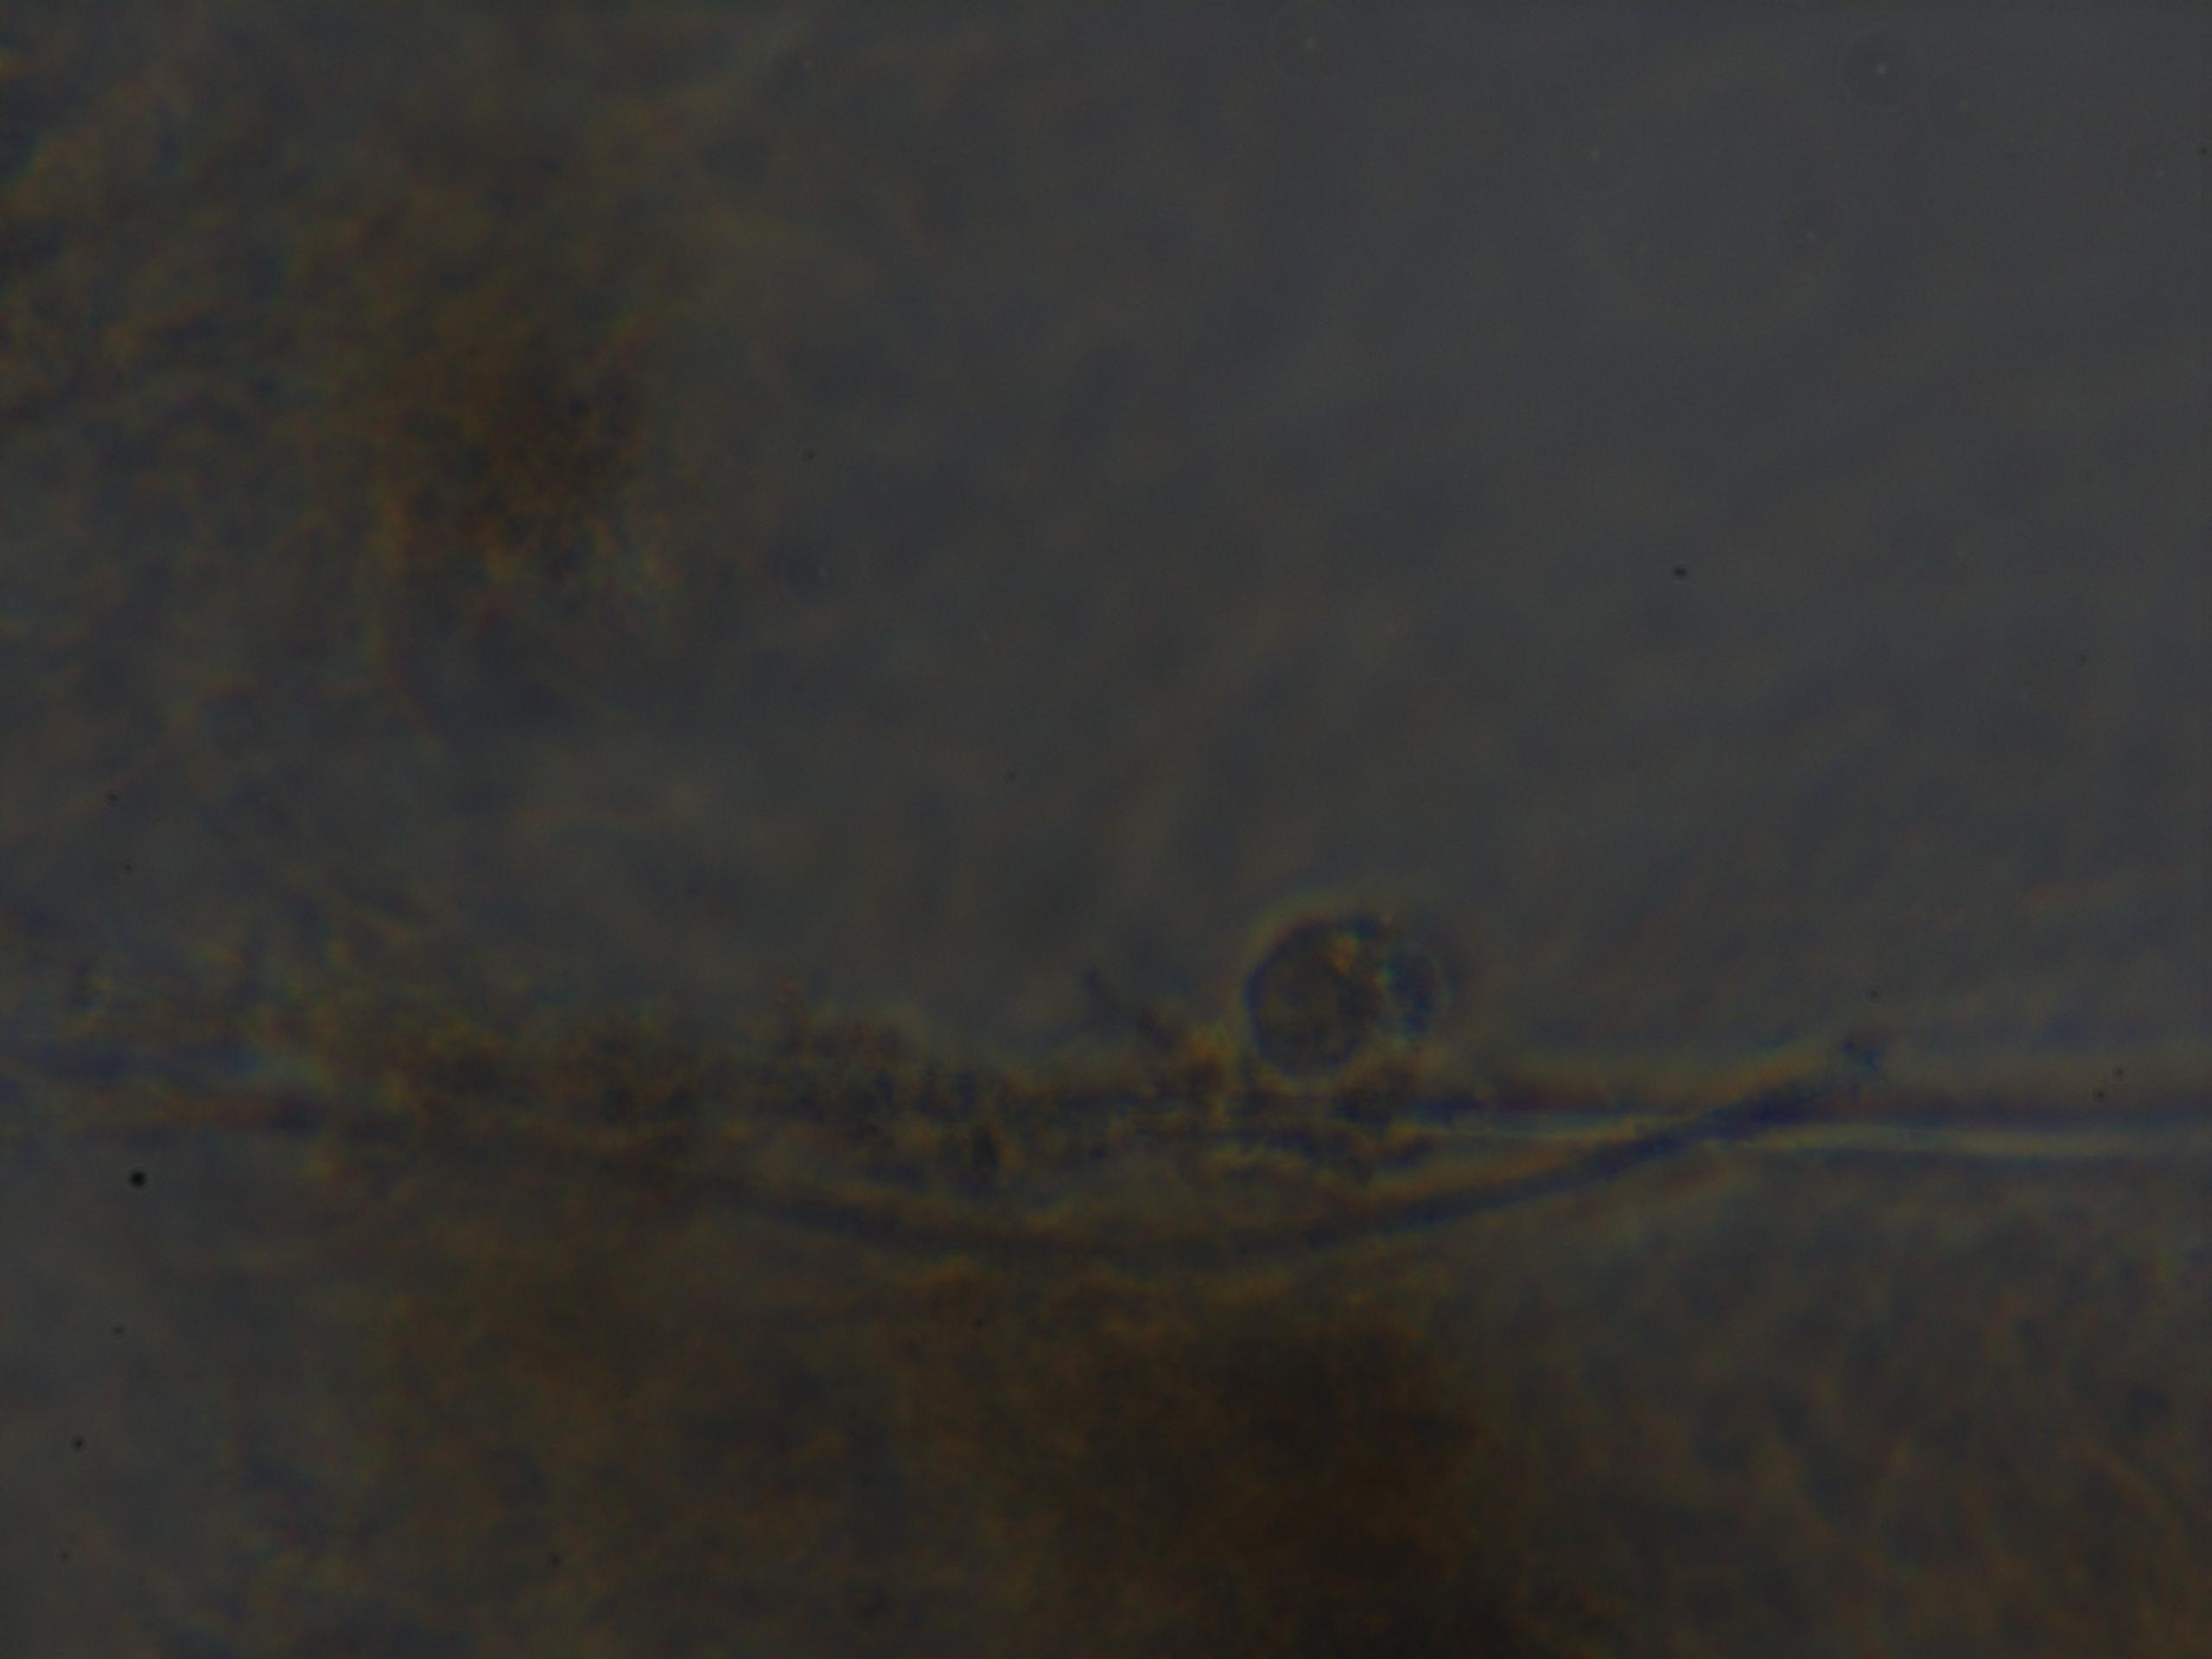filament: (171, 1016, 2212, 1288)
